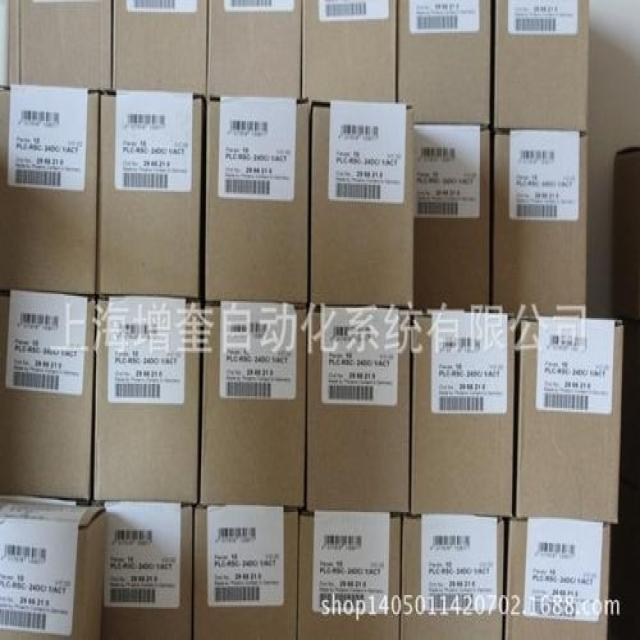Carton: (413, 130, 621, 515), (100, 500, 503, 638), (307, 0, 489, 303), (0, 85, 201, 296), (202, 99, 306, 304), (95, 301, 197, 502), (306, 310, 406, 509), (201, 308, 303, 503), (0, 294, 95, 491), (413, 123, 490, 311), (494, 0, 593, 126), (508, 521, 609, 635), (302, 0, 394, 100), (204, 0, 297, 97), (110, 0, 202, 92)
